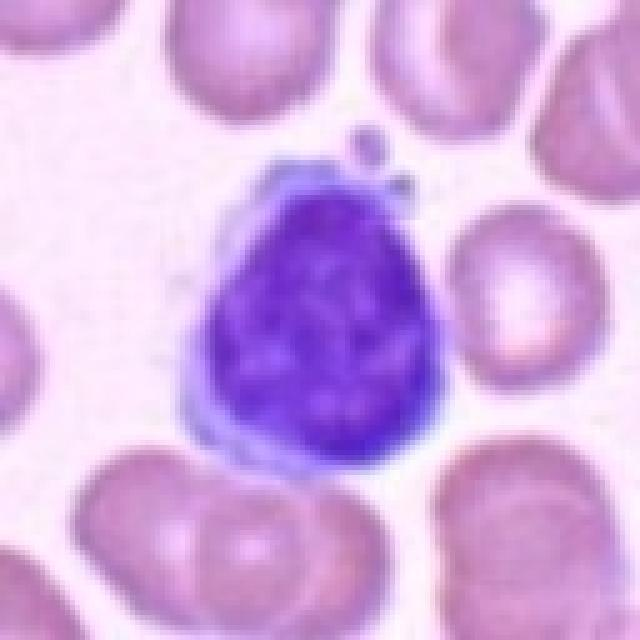lympho: (166, 135, 455, 480)
